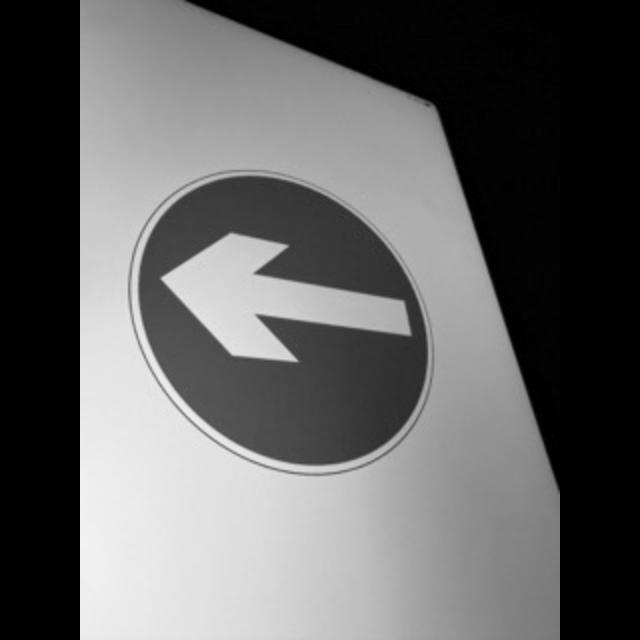TURN LEFT: (128, 167, 442, 478)
